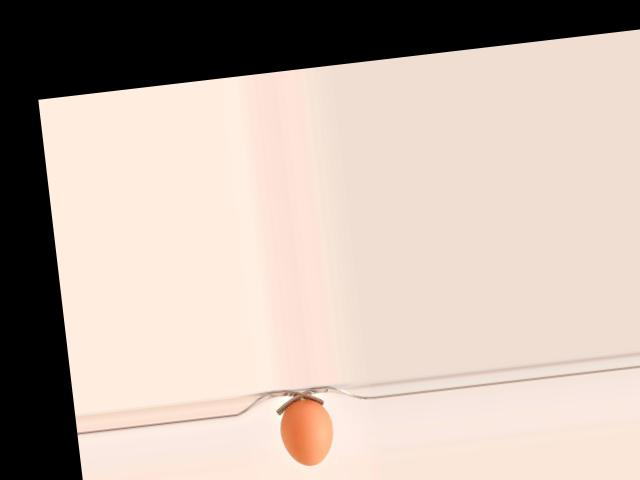egg: (278, 396, 337, 468)
